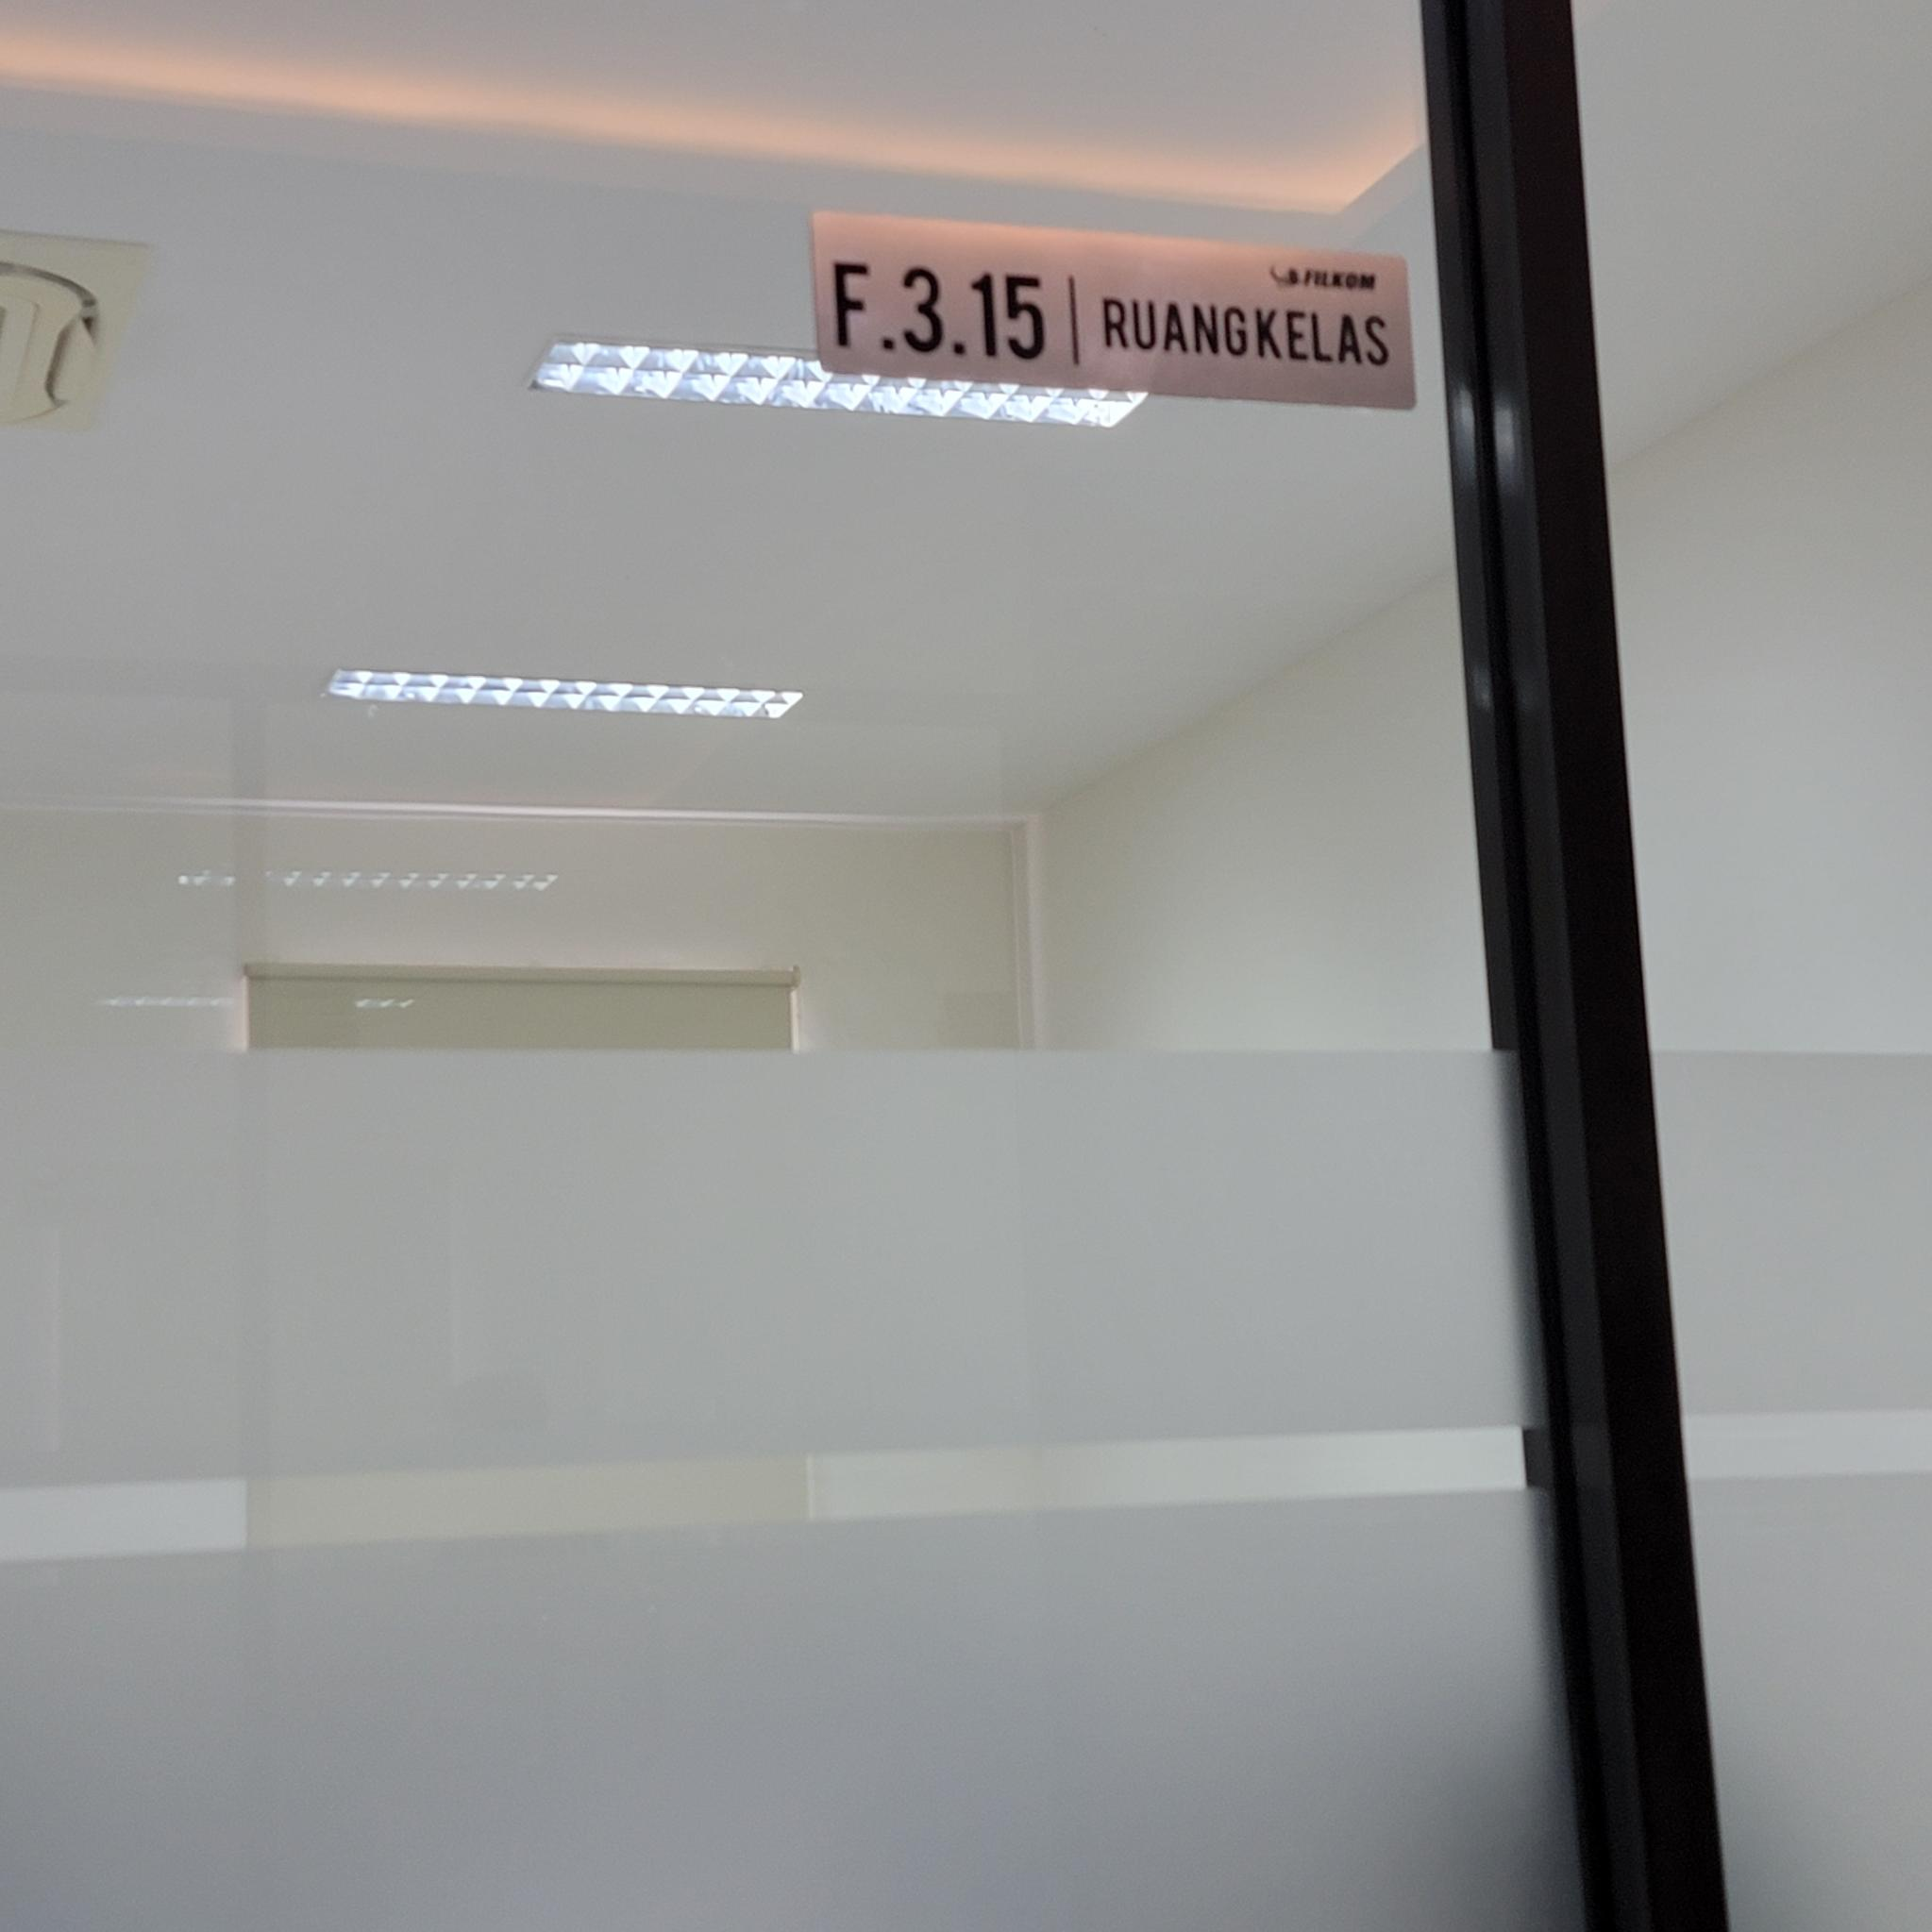plate: (814, 209, 1417, 412)
